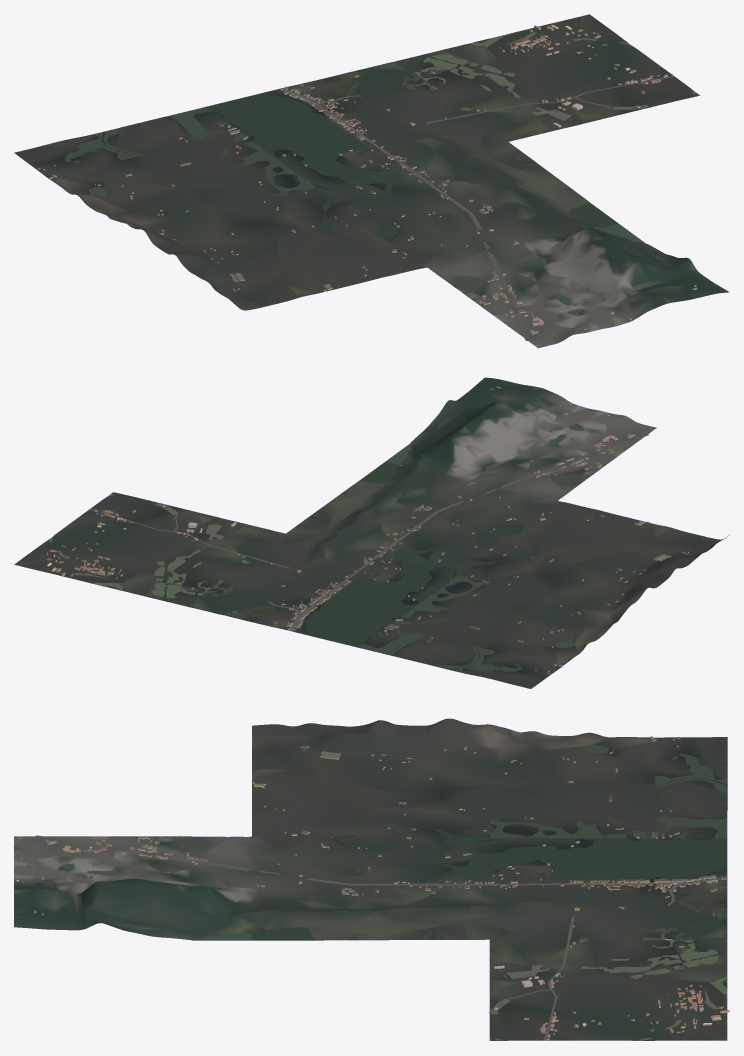
3 renders of one model, top to bottom at view 1: azimuth 30°, elevation 25°; view 2: azimuth 150°, elevation 25°; view 3: azimuth 270°, elevation 25°, orthographic. The views are drawn at different scales.
Visible parts, largest first — view 1: ground, water, buildings, roads; view 2: ground, water, buildings, roads; view 3: ground, water, buildings, roads.
Part boxes in pixels (x1,y1,x2,y2): ground: [14, 14, 729, 348]; water: [65, 31, 699, 325]; buildings: [37, 25, 697, 334]; roads: [279, 76, 674, 340]; ground: [14, 377, 729, 688]; water: [49, 414, 694, 672]; buildings: [47, 386, 689, 674]; roads: [90, 433, 648, 631]; ground: [14, 718, 727, 1040]; water: [26, 725, 727, 1040]; buildings: [16, 736, 729, 1040]; roads: [35, 835, 727, 1040].
Size of the model in its own units: 4208 by 198 by 4220.
